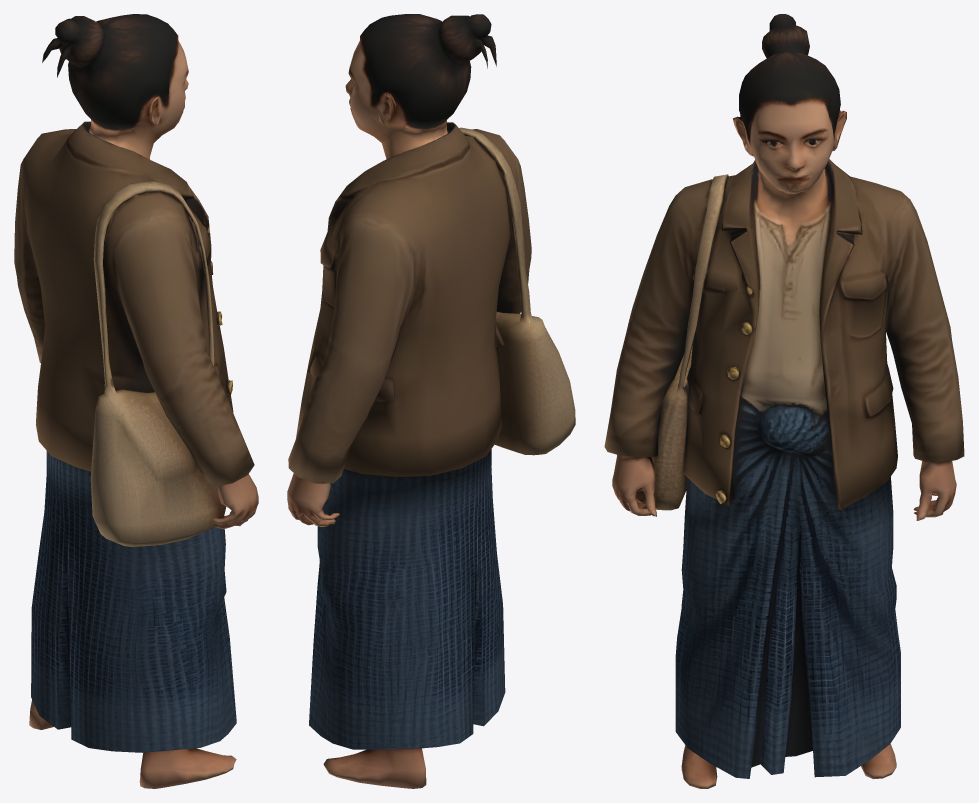
Rendered from alaungpaya-young-aung-zeya.glb.
3 views of the same model, side by side, from view 1: azimuth 30°, elevation 25°; view 2: azimuth 150°, elevation 25°; view 3: azimuth 270°, elevation 25° (orthographic). The views are drawn at different scales.
Parts seen in each view (by area): view 1: tripo_node_08da6053-1dc3-4bd2-8d46-b6a6ef10eee3; view 2: tripo_node_08da6053-1dc3-4bd2-8d46-b6a6ef10eee3; view 3: tripo_node_08da6053-1dc3-4bd2-8d46-b6a6ef10eee3.
Part boxes in pixels (x1,y1,x2,y2): tripo_node_08da6053-1dc3-4bd2-8d46-b6a6ef10eee3: [14, 14, 258, 788]; tripo_node_08da6053-1dc3-4bd2-8d46-b6a6ef10eee3: [287, 14, 575, 788]; tripo_node_08da6053-1dc3-4bd2-8d46-b6a6ef10eee3: [604, 14, 964, 788].
Bounding box in the file's own units: 0.2559 × 0.998 × 0.4551.
1 material, 1 textured.
